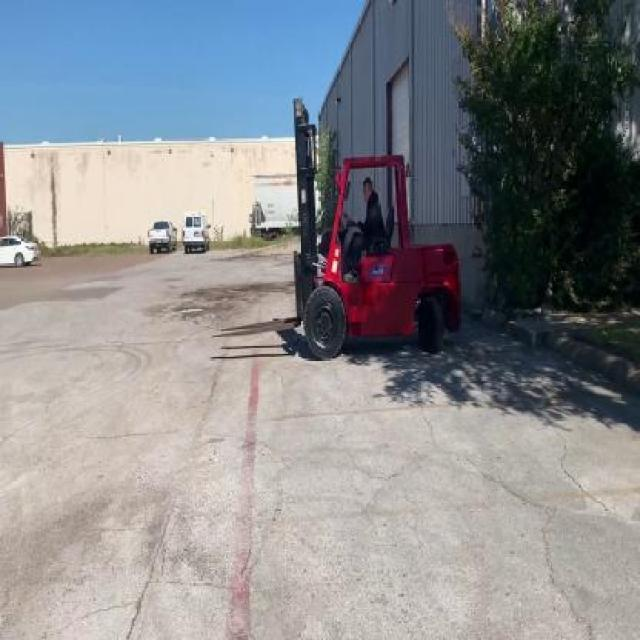forklift: (290, 152, 456, 358)
